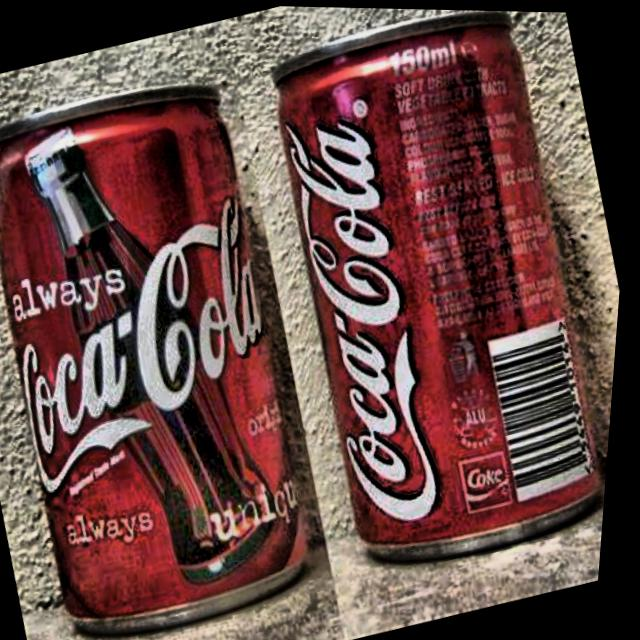Cans: (215, 4, 640, 593), (0, 44, 369, 640)
